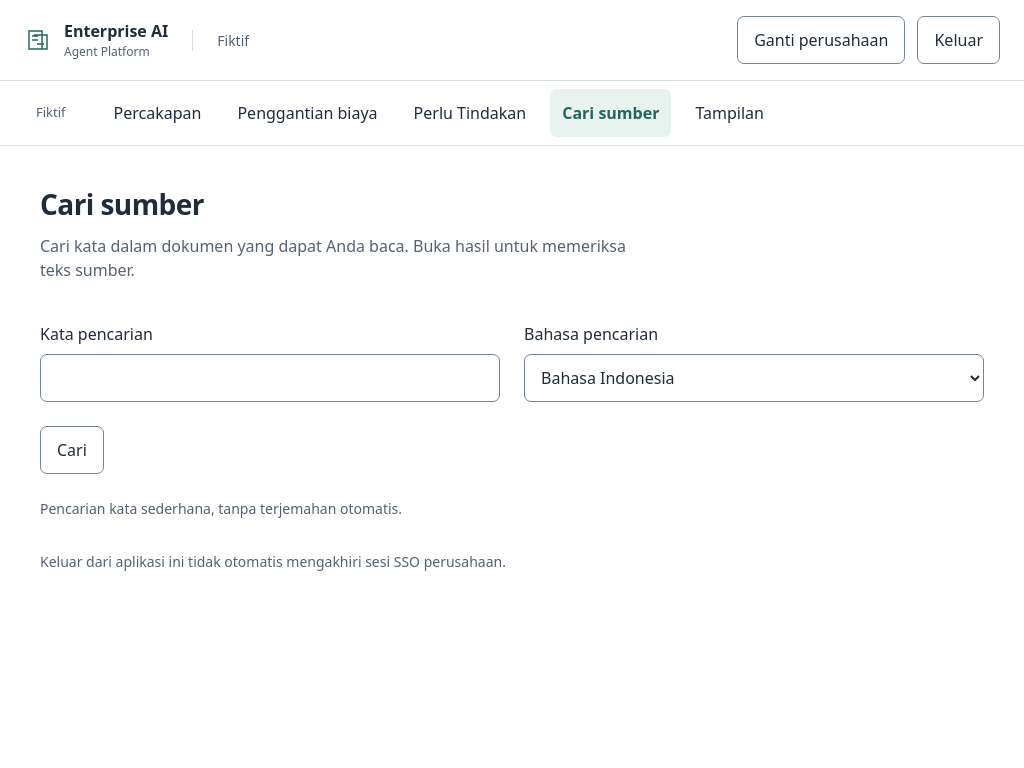
it: submits search only on explicit action, keeps q out of navigation/storage, and uses no manager directory API
Type "biaya" into the field labelled "Kata pencarian".
click(270, 378); type("biaya")  # box [40,354,500,402]
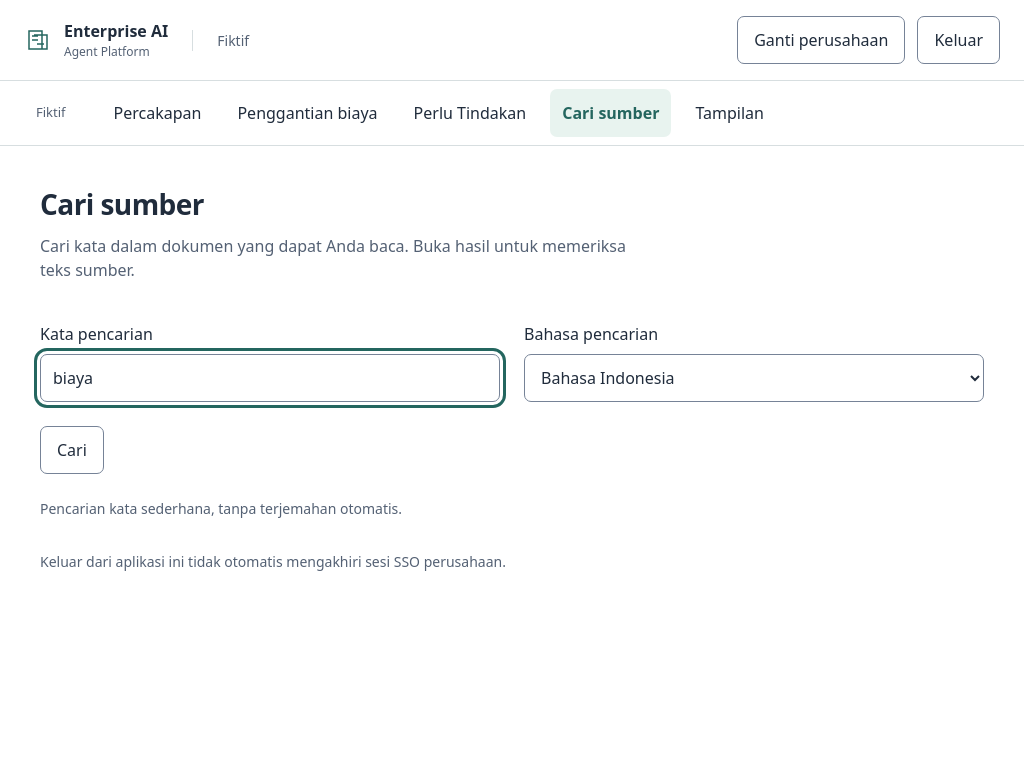
Select "English" in the dropdown labelled "Bahasa pencarian" at (754, 378), box [524,354,984,402]
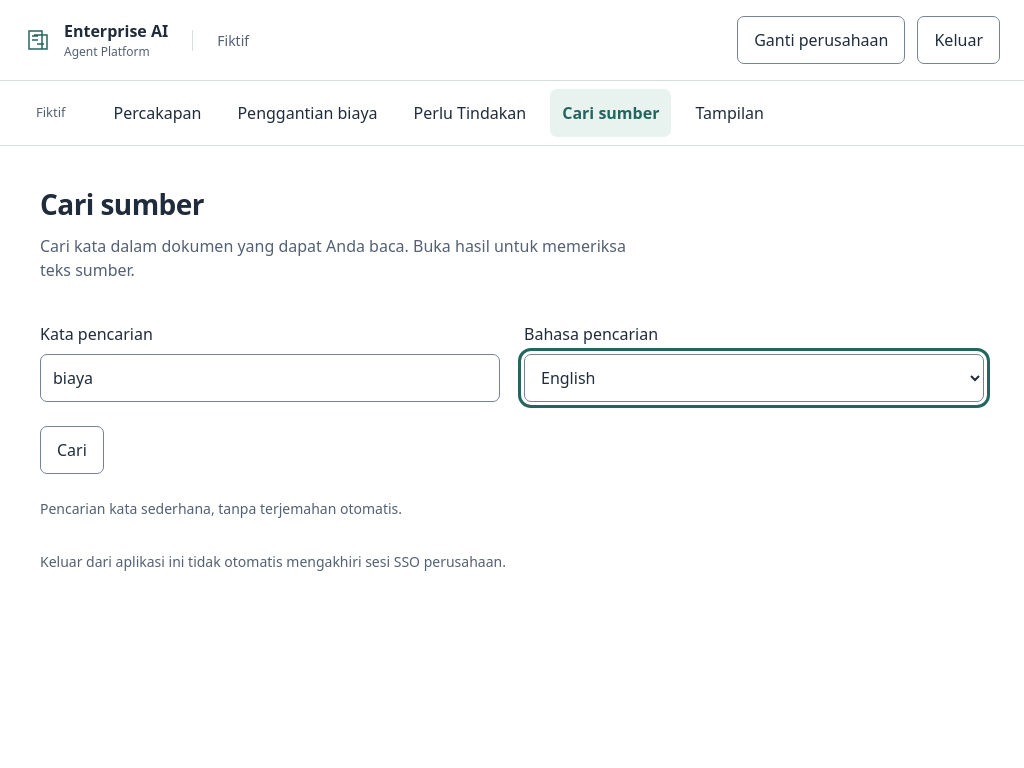
Click the button "Cari".
click(72, 450)  # box [40,426,104,474]
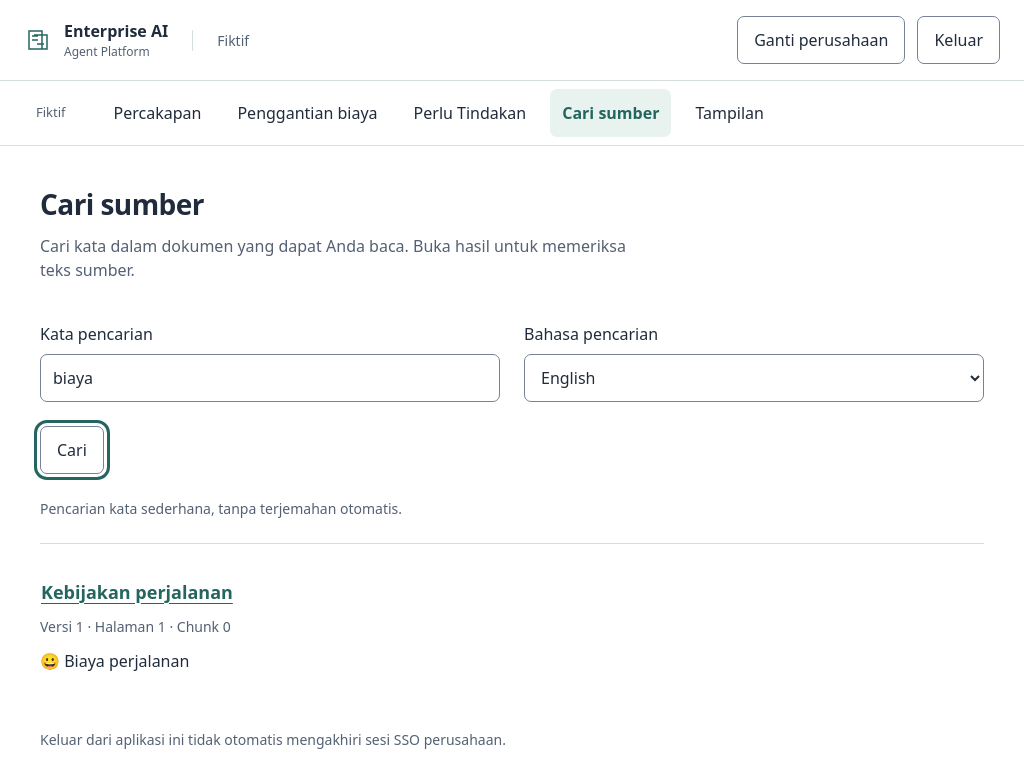
expect the button "Kebijakan perjalanan" is shown: met, box [40,568,234,616]
